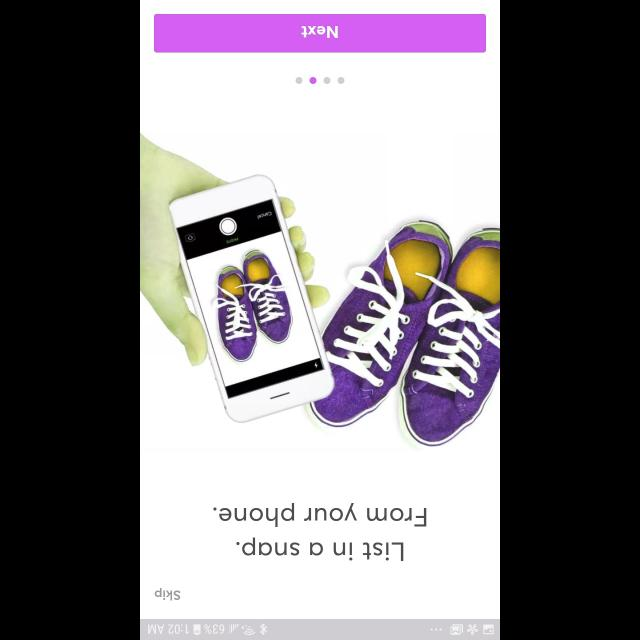image: (140, 132, 500, 452)
pageindicator: (295, 76, 345, 84)
text: (214, 503, 426, 527), (236, 536, 404, 560), (154, 588, 180, 600)
textbutton: (154, 14, 486, 54)
uppertaskbar: (140, 618, 500, 640)
